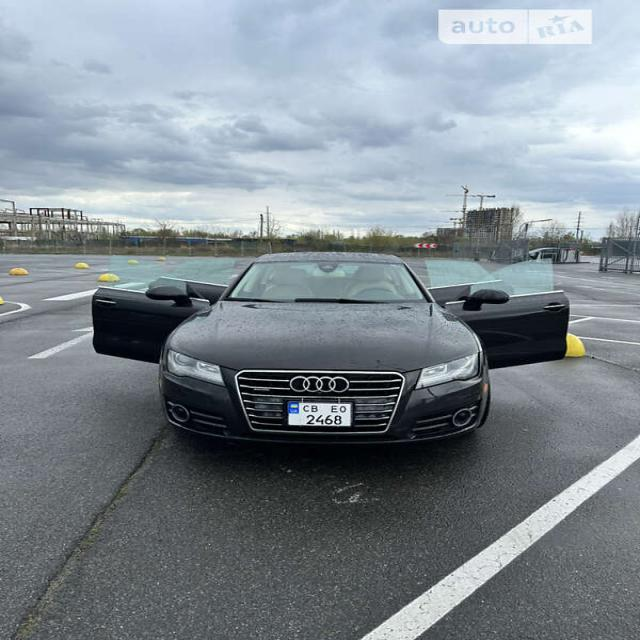plate: (281, 394, 360, 434)
